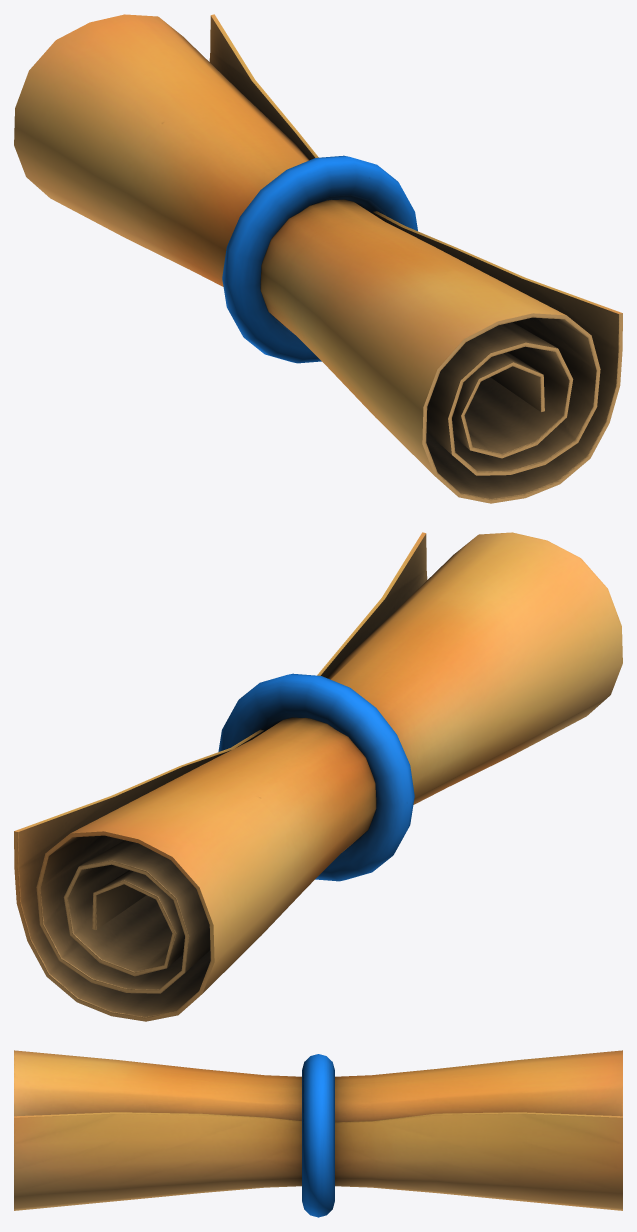
File: Scroll.fbx
The picture shows the model from 3 angles, top to bottom: view 1: azimuth 30°, elevation 25°; view 2: azimuth 150°, elevation 25°; view 3: azimuth 270°, elevation 25°; orthographic projection. The views are drawn at different scales.
Parts seen in each view (by area): view 1: Scroll; view 2: Scroll; view 3: Scroll.
Part boxes in pixels (box(x1,y1,x2,y2)): Scroll: box(14, 14, 622, 503); Scroll: box(14, 532, 622, 1021); Scroll: box(14, 1050, 622, 1217).
Bounding box in the file's own units: 0.0584 × 0.0558 × 0.206.
